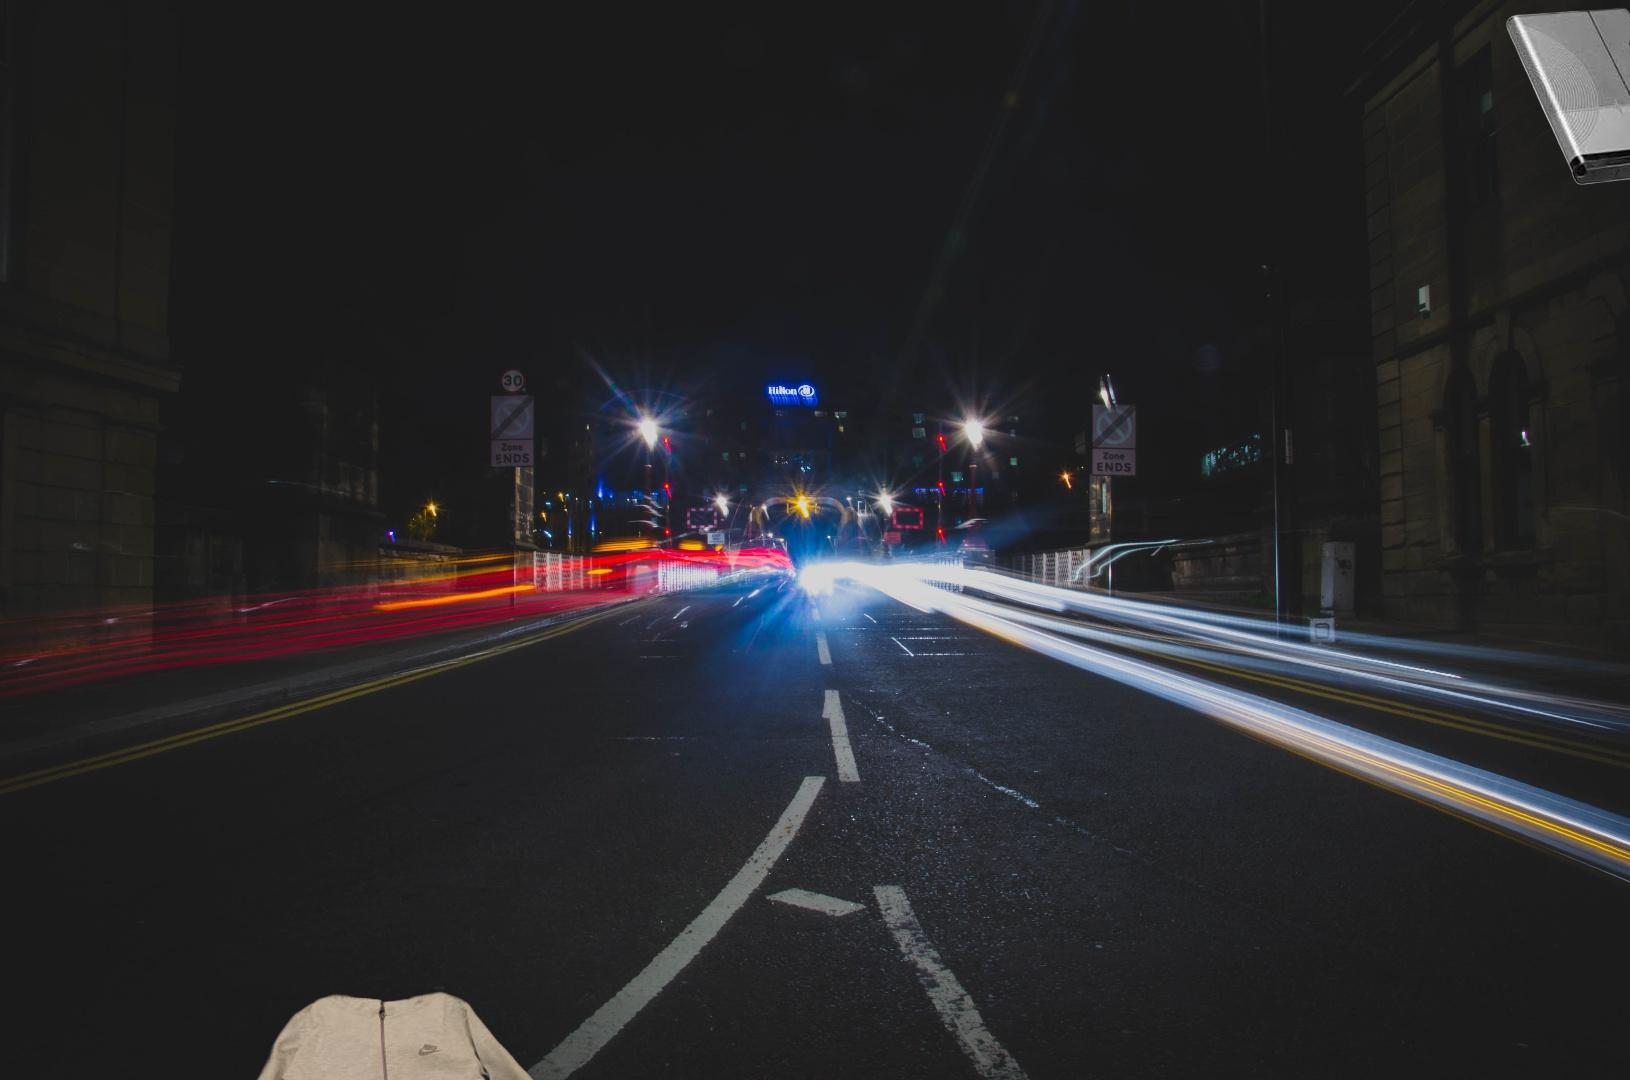battery: (1504, 5, 1630, 188)
clothes: (193, 988, 589, 1080)
